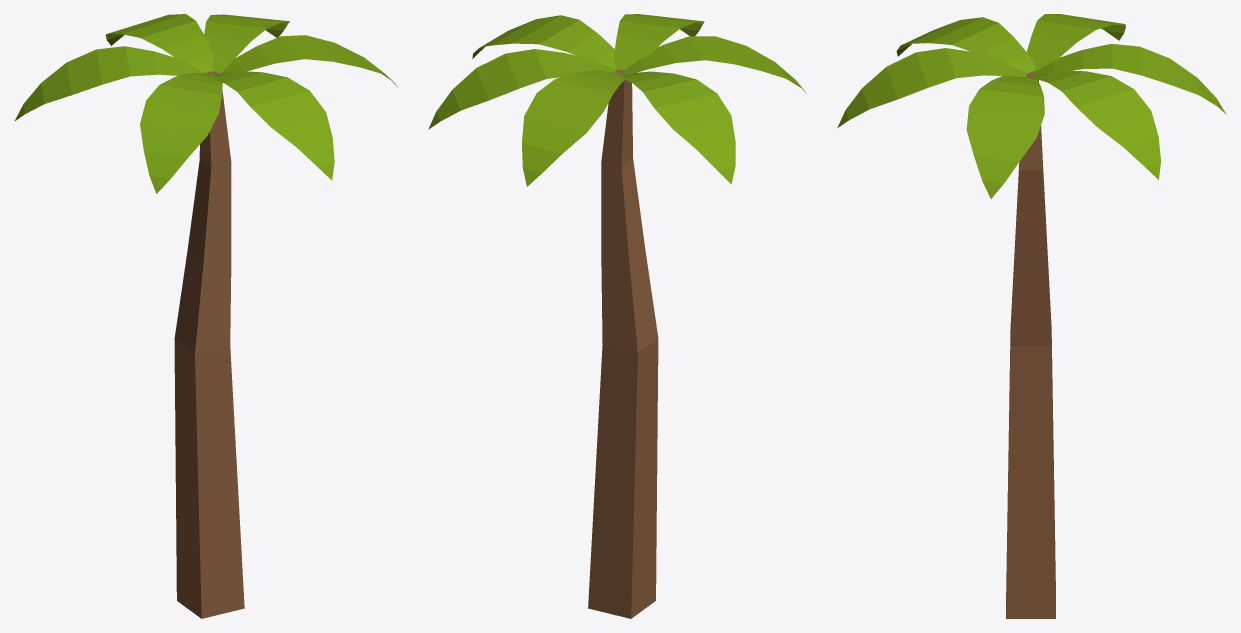
File: Palm_1.fbx
3 renders of one model, left to right at view 1: azimuth 30°, elevation 25°; view 2: azimuth 150°, elevation 25°; view 3: azimuth 270°, elevation 25°, orthographic.
Visible parts, largest first — view 1: Palm_1_LOD0; view 2: Palm_1_LOD0; view 3: Palm_1_LOD0.
Part boxes in pixels (box(x1,y1,x2,y2)): Palm_1_LOD0: box(14, 14, 397, 618); Palm_1_LOD0: box(428, 14, 806, 618); Palm_1_LOD0: box(837, 14, 1226, 618).
Size of what is drawn, in the model's own units: 156 by 253 by 162.
